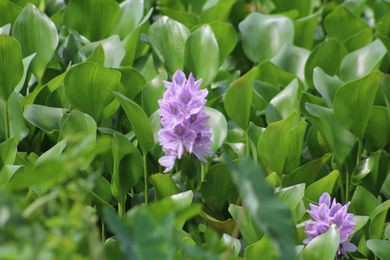water_hyacinth: (0, 1, 388, 193)
